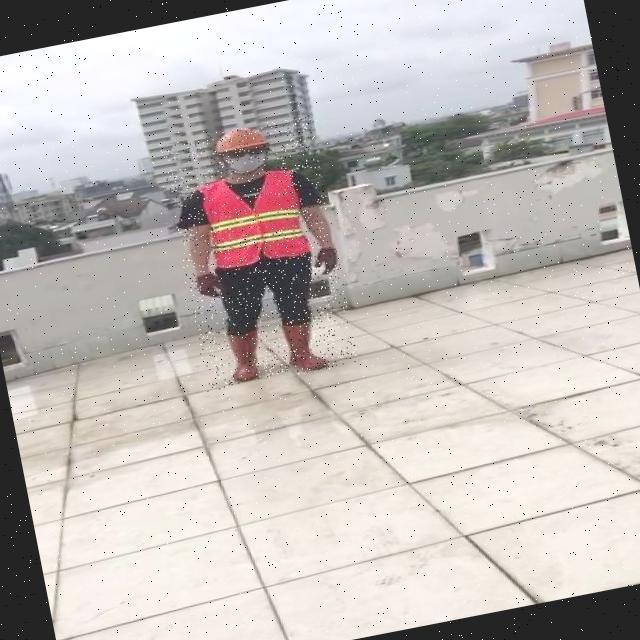boots: (282, 317, 330, 374), (223, 327, 268, 384)
helmet: (210, 121, 269, 154)
vest: (202, 168, 310, 272)
